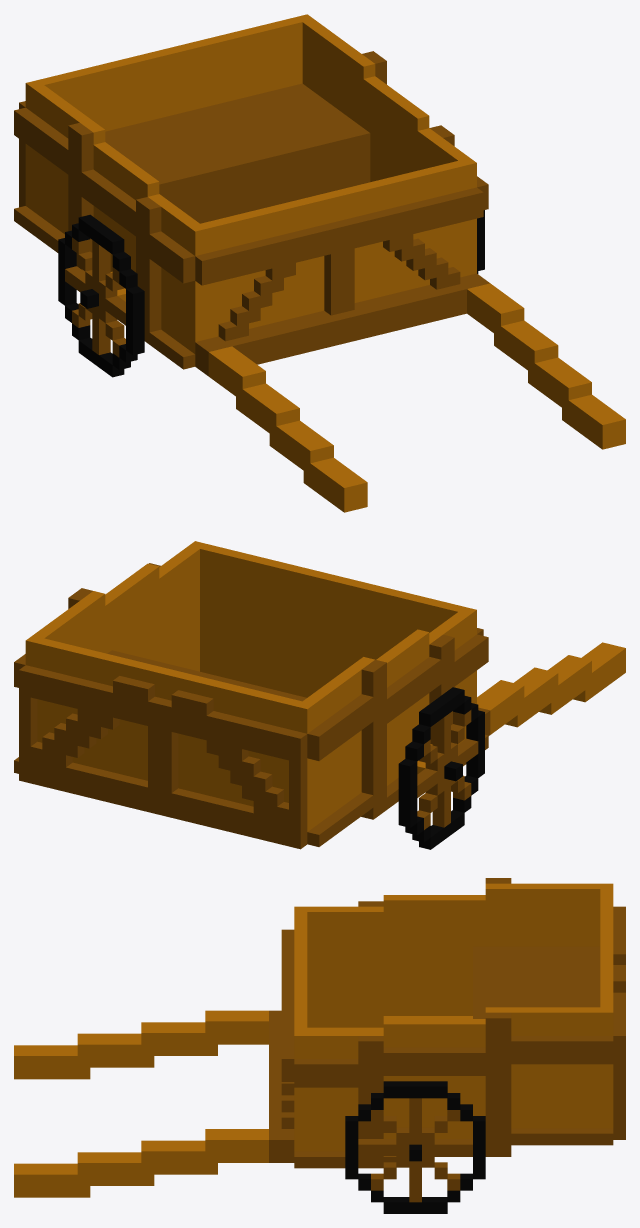
The model's file is cart.obj.
3 views of the same model, one above another, from view 1: azimuth 30°, elevation 25°; view 2: azimuth 150°, elevation 25°; view 3: azimuth 270°, elevation 25° (orthographic). The views are drawn at different scales.
Size of the model in its own units: 3.2 by 1.6 by 4.8.
Materials: 1 (1 with a texture image).
